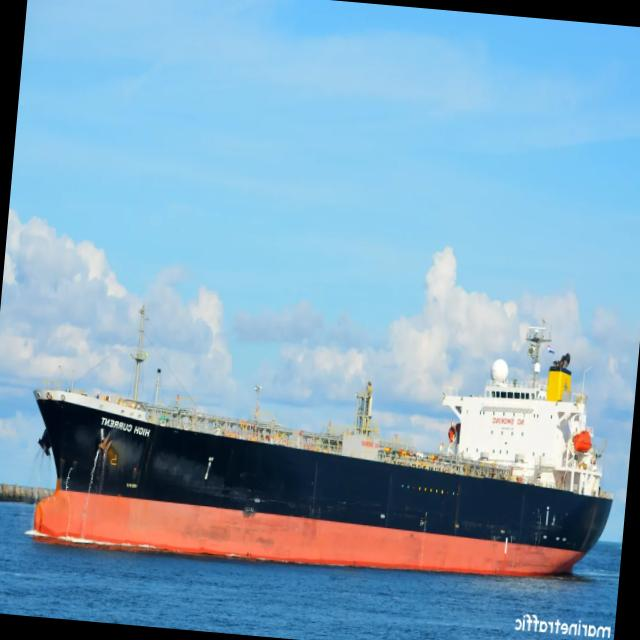Tanker: (32, 308, 612, 574)
